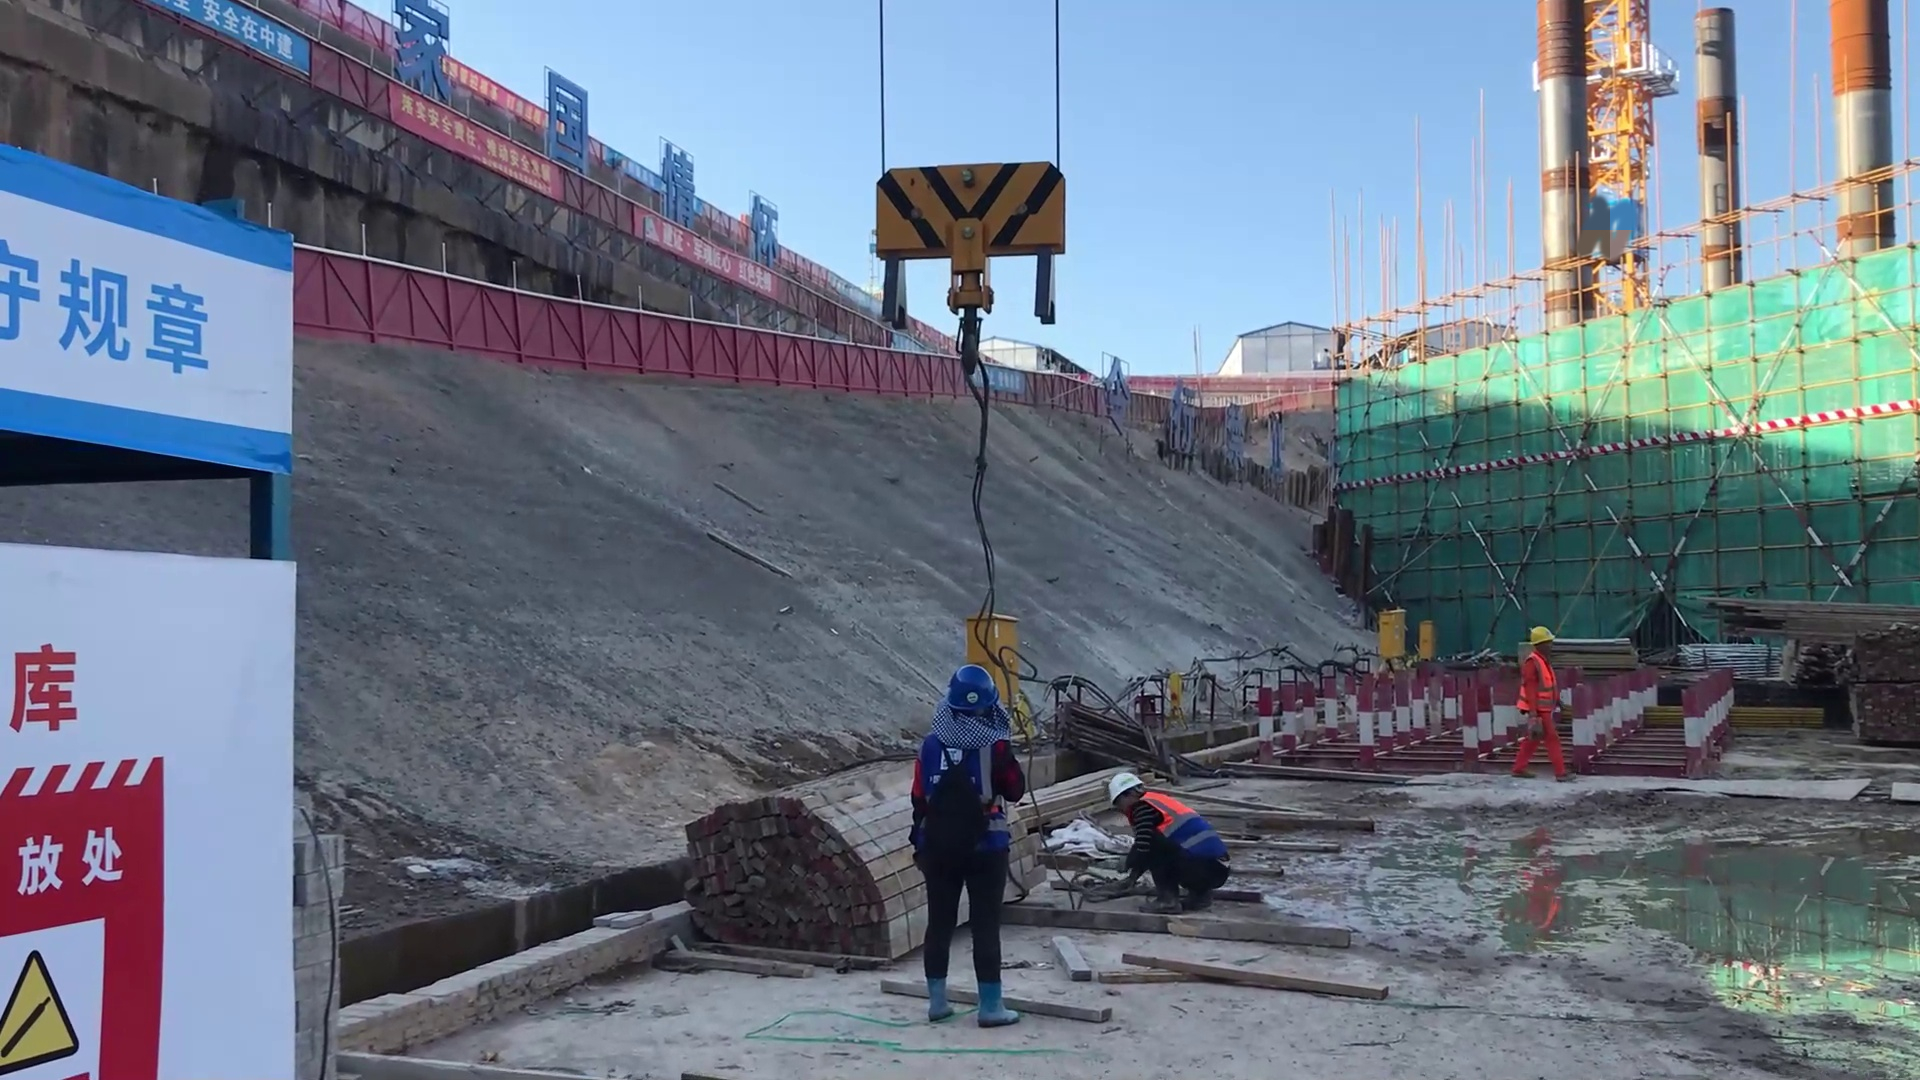ebox: (964, 602, 1040, 711), (1370, 609, 1407, 654), (1414, 613, 1438, 661)
fence: (301, 259, 836, 398)
helmet: (939, 663, 1013, 731), (1103, 761, 1138, 806), (1520, 627, 1549, 659)
hook: (858, 159, 1096, 345)
person: (913, 660, 1021, 1031), (1092, 771, 1228, 920), (1511, 617, 1585, 785)
slogan: (1, 236, 262, 408), (364, 76, 558, 233), (137, 1, 310, 107), (1, 916, 111, 1070)
vest: (1517, 658, 1563, 717)
wood: (647, 741, 908, 1015), (1680, 574, 1920, 658)
